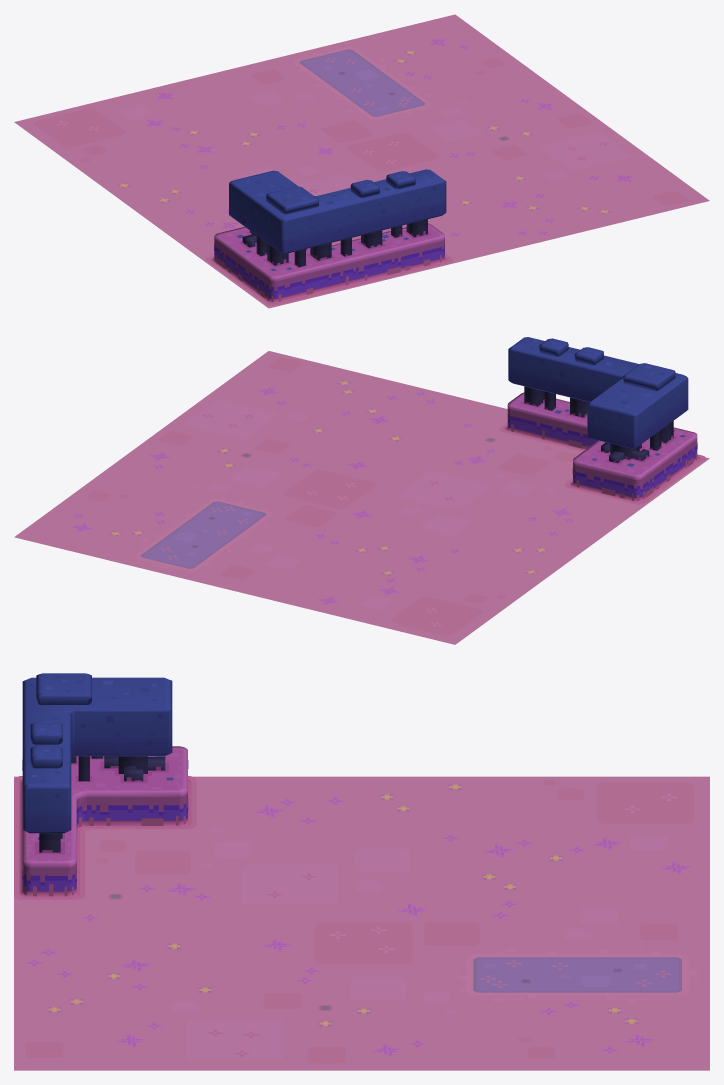
Rendered from C_forest2_02.fbx.
The picture shows the model from 3 angles, top to bottom: view 1: azimuth 30°, elevation 25°; view 2: azimuth 150°, elevation 25°; view 3: azimuth 270°, elevation 25°; orthographic projection. The views are drawn at different scales.
Visible parts, largest first — view 1: C_forest2_02; view 2: C_forest2_02; view 3: C_forest2_02.
Part boxes in pixels (x1,y1,x2,y2): C_forest2_02: (14, 14, 709, 308); C_forest2_02: (14, 337, 709, 644); C_forest2_02: (14, 673, 709, 1070).
Size of the model in its own units: 50 by 9.62 by 50.
